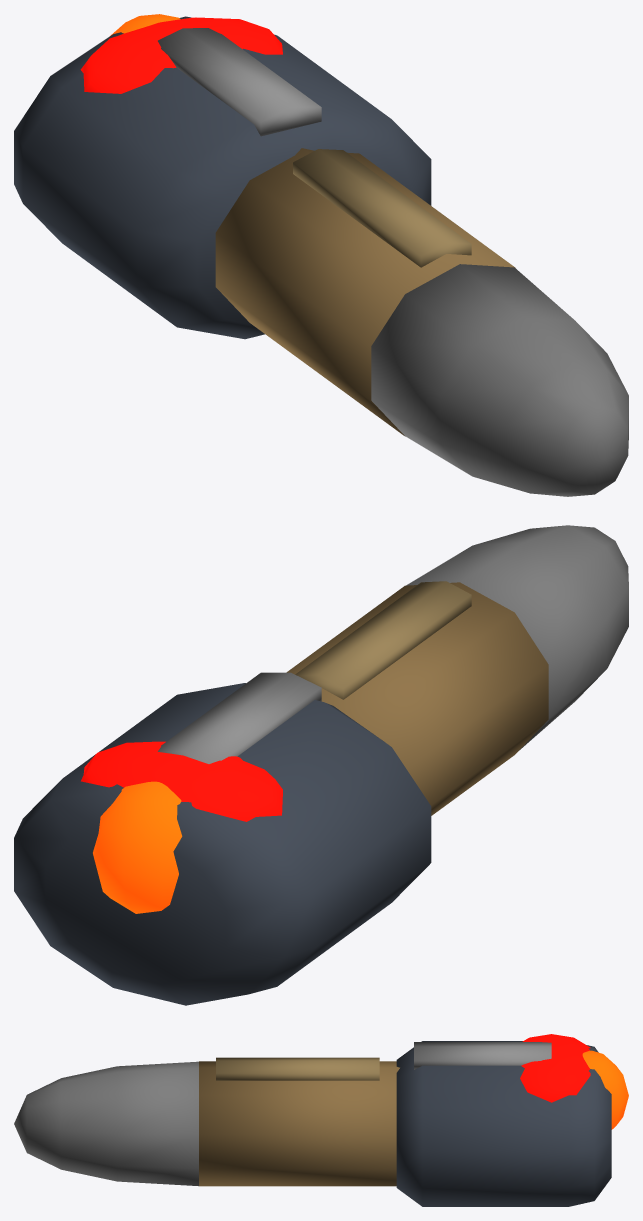
Rendered from newshp-19.glb.
The picture shows the model from 3 angles, top to bottom: view 1: azimuth 30°, elevation 25°; view 2: azimuth 150°, elevation 25°; view 3: azimuth 270°, elevation 25°; orthographic projection. The views are drawn at different scales.
Parts seen in each view (by area): view 1: newshp-19, newshp-19-glow; view 2: newshp-19, newshp-19-glow; view 3: newshp-19, newshp-19-glow.
Boxes of the visible parts, box(x1,y1,x2,y2) form: newshp-19: box(14, 14, 628, 496); newshp-19-glow: box(80, 17, 282, 93); newshp-19: box(14, 525, 628, 1005); newshp-19-glow: box(81, 741, 282, 821); newshp-19: box(14, 1041, 628, 1206); newshp-19-glow: box(520, 1034, 590, 1102).
Bounding box in the file's own units: 0.4186 × 0.3099 × 1.19.
